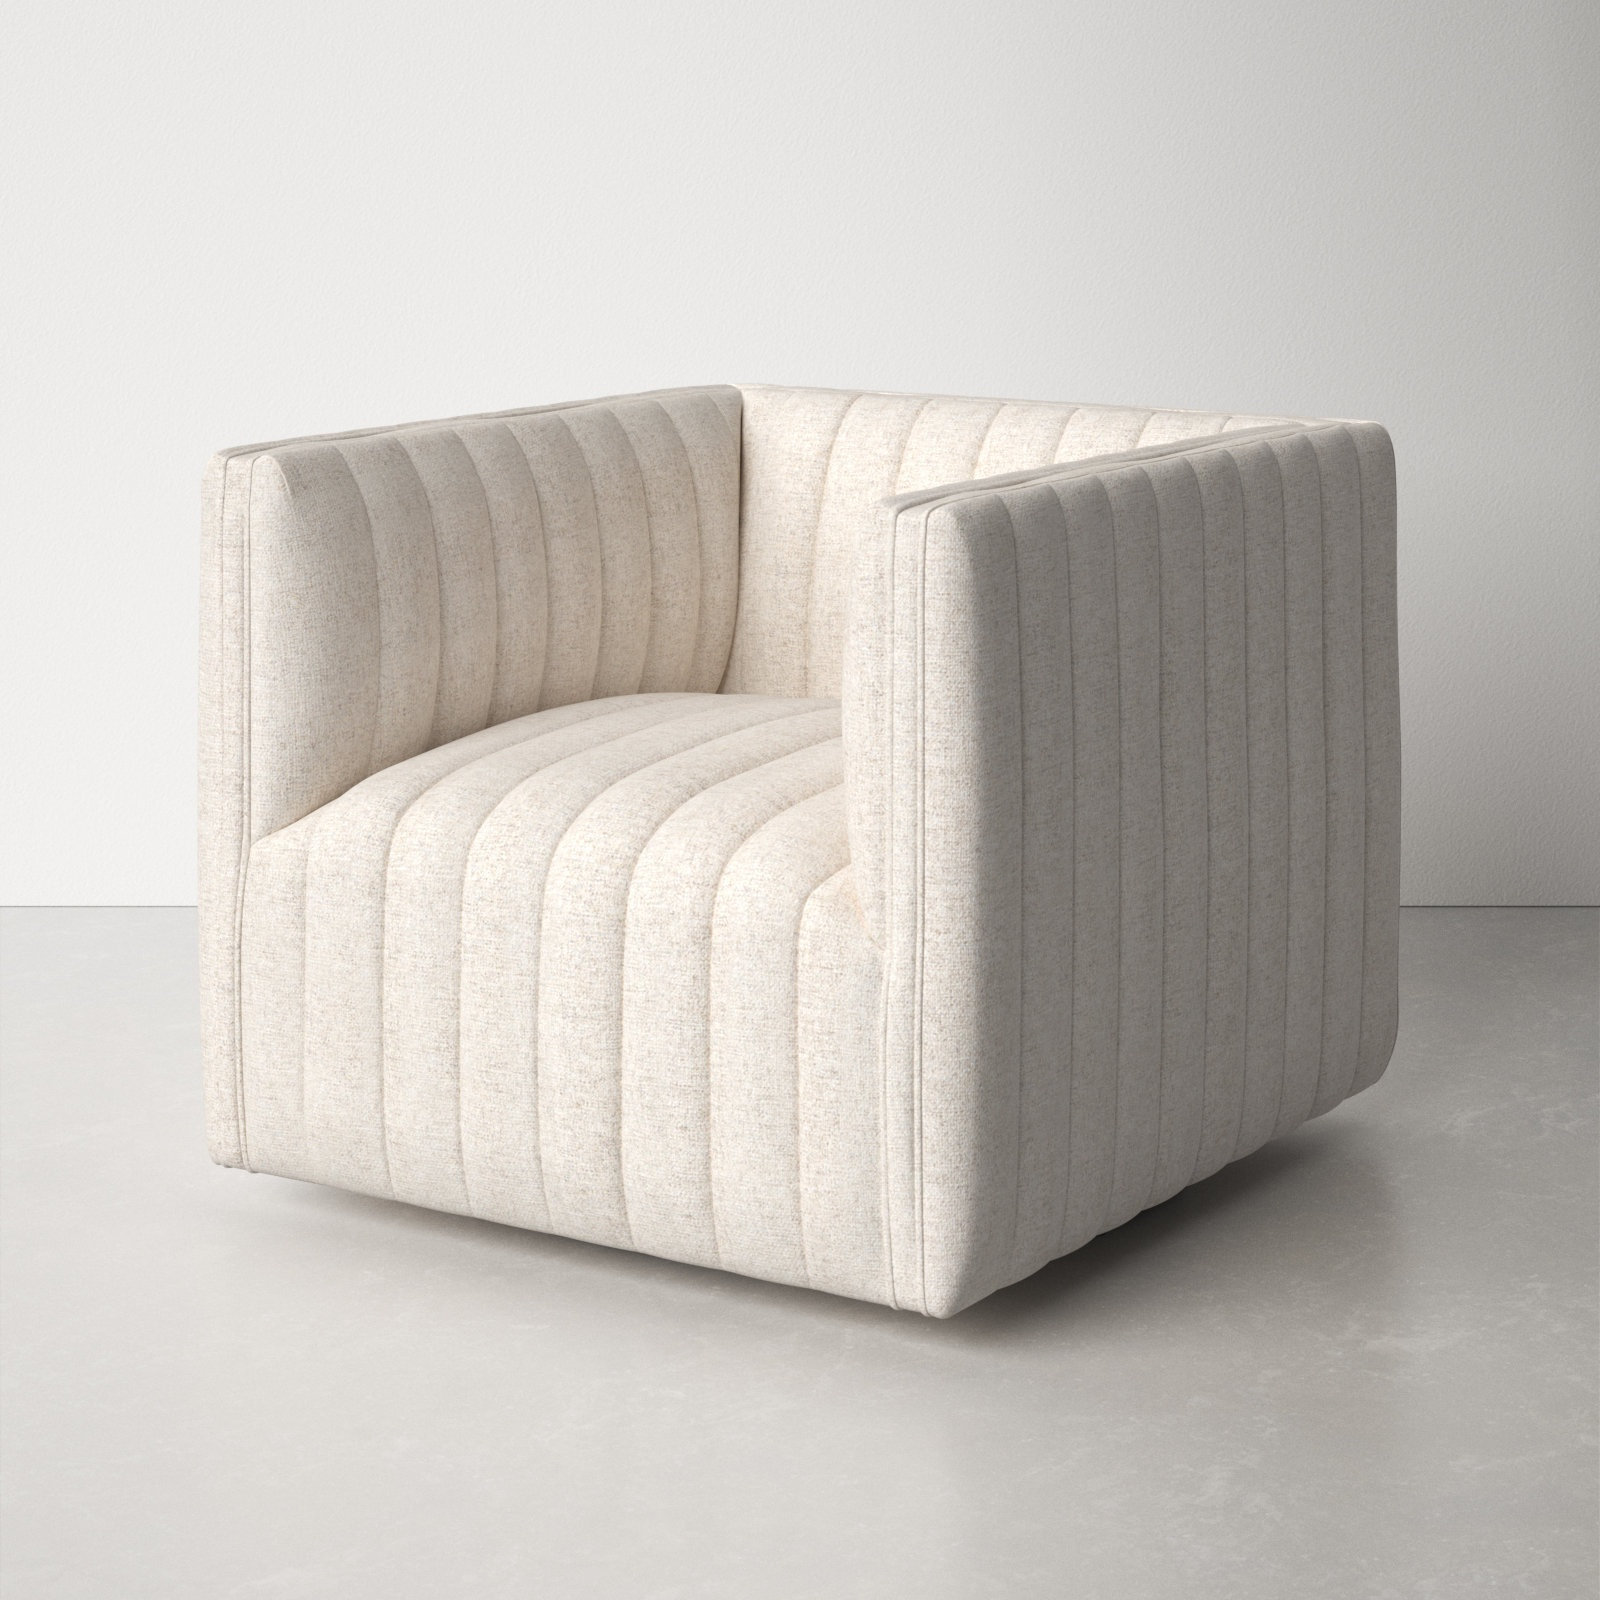obstacle: (201, 387, 1398, 1314)
